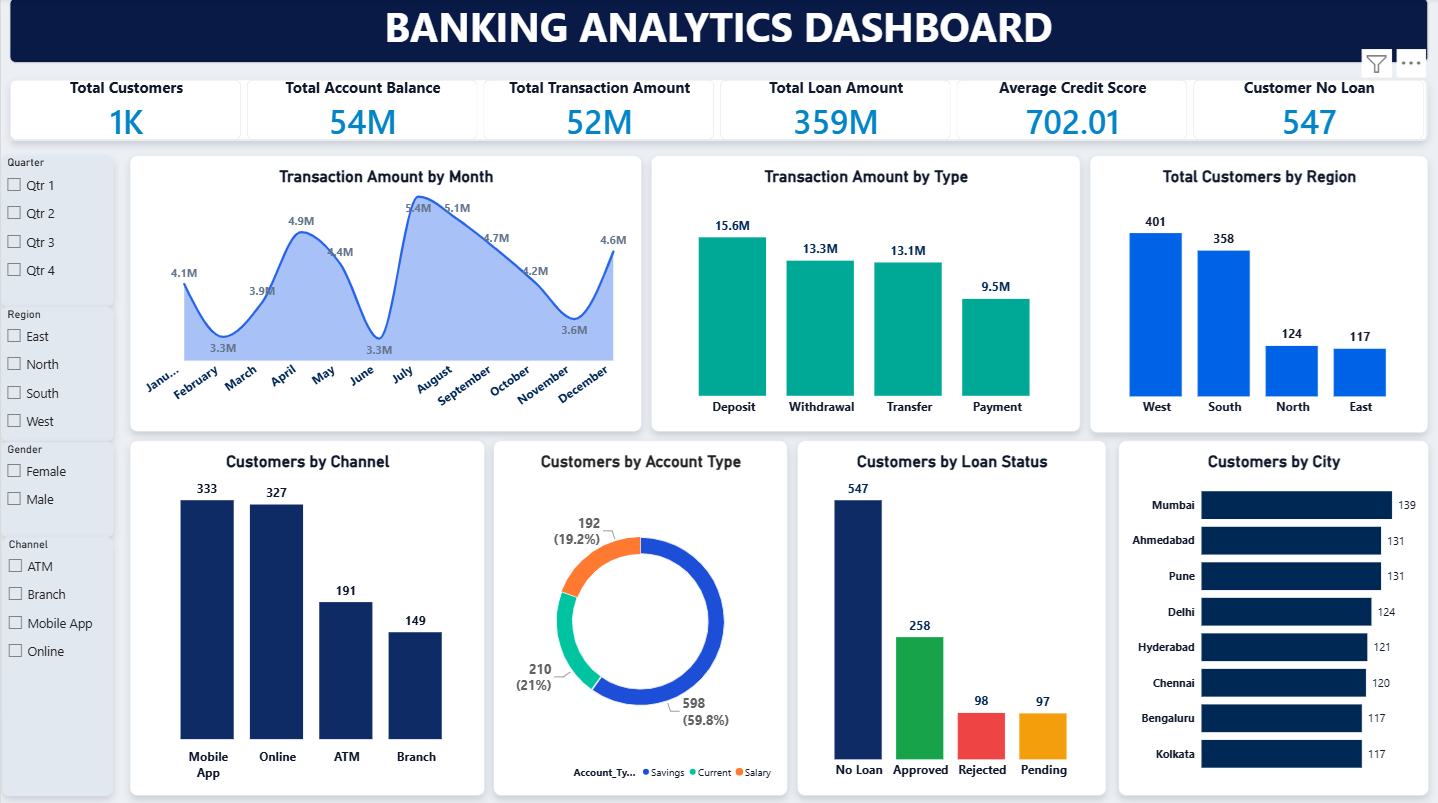

The page's visual inventory and layout, read from the dashboard file:
{"tool":"powerbi","page":{"name":"Page 1","canvas":[1920,1080],"ordinal":0},"visuals":[{"type":"textbox","box":[12,0,1894,86],"z":0},{"type":"cardVisual","fields":{"Data":["Banking_Data.Total Customers","Banking_Data.Total Account Balance","Banking_Data.Total Transaction Amount","Banking_Data.Total Loan Amount","Banking_Data.Average Credit Score","Banking_Data.Customer No Loan"]},"box":[12,108,1894,82],"z":1000},{"type":"lineChart","title":"Transaction Amount by Month","fields":{"Category":["Banking_Data.Transaction_Date.Variation.Date Hierarchy.Month"],"Y":["Sum(Banking_Data.Transaction_Amount)"]},"box":[171.9,209.9,684.1,369.2],"z":2000},{"type":"clusteredColumnChart","title":"Transaction Amount by Type","fields":{"Category":["Banking_Data.Transaction_Type"],"Y":["Banking_Data.Total Transaction Amount"]},"box":[868.6,209.9,573.7,369.2],"z":3000},{"type":"clusteredColumnChart","fields":{"Category":["Banking_Data.Region"],"Y":["Banking_Data.Total Customers"]},"box":[1454,210,452,370],"z":4000},{"type":"clusteredBarChart","title":"Customers by City","fields":{"Category":["Banking_Data.City"],"Y":["Banking_Data.Total Customers"]},"box":[1493,591.8,414.4,474.1],"z":5000},{"type":"clusteredColumnChart","title":"Customers by Channel","fields":{"Category":["Banking_Data.Channel"],"Y":["Banking_Data.Total Customers"]},"box":[171.9,591.8,474.1,474.1],"z":6000},{"type":"clusteredColumnChart","title":"Customers by Loan Status","fields":{"Category":["Banking_Data.Loan_Status"],"Y":["Banking_Data.Total Customers"]},"box":[1064.1,591.8,412.6,474.1],"z":7000},{"type":"donutChart","title":"Customers by Account Type","fields":{"Category":["Banking_Data.Account_Type"],"Y":["Banking_Data.Total Customers"]},"box":[658.7,591.8,392.7,474.1],"z":8000},{"type":"slicer","fields":{"Values":["Banking_Data.Transaction_Date.Variation.Date Hierarchy.Quarter"]},"box":[0,210,150,202],"z":9000},{"type":"slicer","fields":{"Values":["Banking_Data.Region"]},"box":[0,412,150,180],"z":10000},{"type":"slicer","fields":{"Values":["Banking_Data.Gender"]},"box":[0,592,150,128],"z":11000},{"type":"slicer","fields":{"Values":["Banking_Data.Channel"]},"box":[2,720,148,346],"z":12000}]}

Visuals, with their boxes in screenshot pixels (x1, y1, x2, y2), scaled from the page's 1920x1080 canvas onto the 1438x803 screenshot:
textbox: (left=9, top=0, right=1428, bottom=64)
cardVisual - Banking_Data.Total Customers x Banking_Data.Total Account Balance: (left=9, top=80, right=1428, bottom=141)
"Transaction Amount by Month" lineChart: (left=129, top=156, right=641, bottom=431)
"Transaction Amount by Type" clusteredColumnChart: (left=651, top=156, right=1080, bottom=431)
clusteredColumnChart - Banking_Data.Region x Banking_Data.Total Customers: (left=1089, top=156, right=1428, bottom=431)
"Customers by City" clusteredBarChart: (left=1118, top=440, right=1429, bottom=793)
"Customers by Channel" clusteredColumnChart: (left=129, top=440, right=484, bottom=793)
"Customers by Loan Status" clusteredColumnChart: (left=797, top=440, right=1106, bottom=793)
"Customers by Account Type" donutChart: (left=493, top=440, right=787, bottom=793)
slicer - Banking_Data.Transaction_Date.Variation.Date Hierarchy.Quarter: (left=0, top=156, right=112, bottom=306)
slicer - Banking_Data.Region: (left=0, top=306, right=112, bottom=440)
slicer - Banking_Data.Gender: (left=0, top=440, right=112, bottom=535)
slicer - Banking_Data.Channel: (left=1, top=535, right=112, bottom=793)
